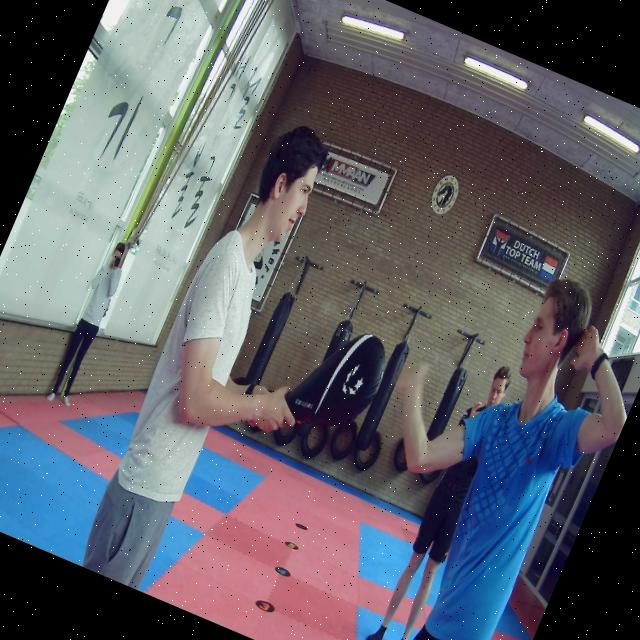paddle: (282, 331, 384, 428)
